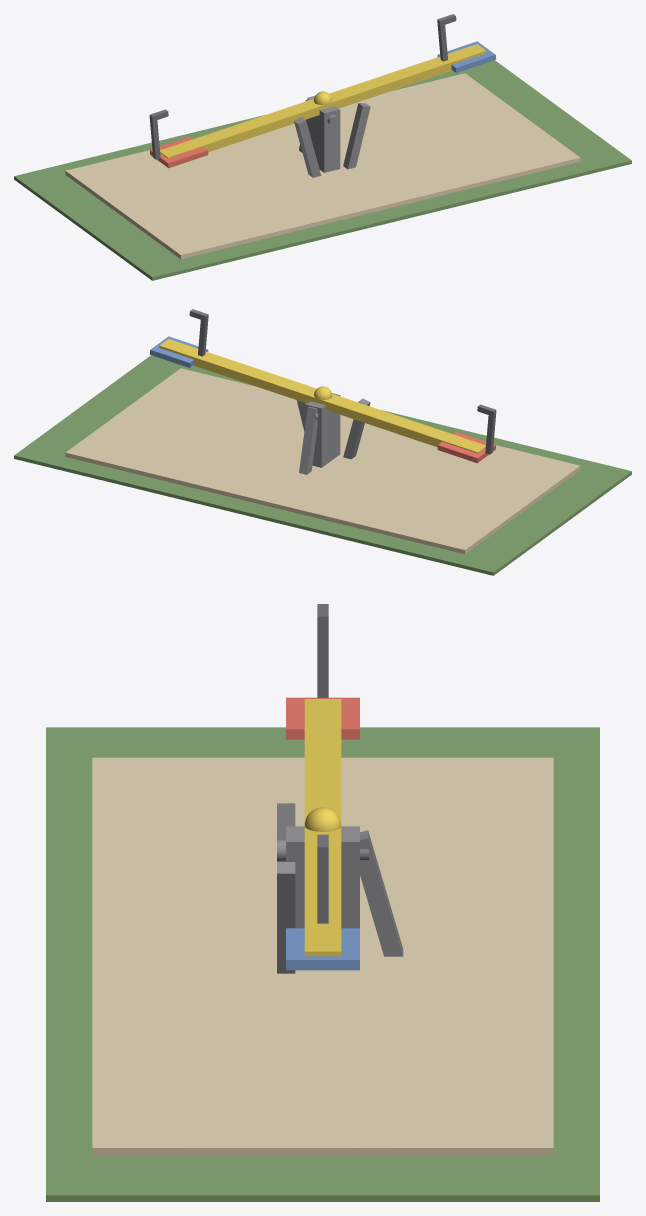
Rendered from seesaw.glb.
The picture shows the model from 3 angles, top to bottom: view 1: azimuth 30°, elevation 25°; view 2: azimuth 150°, elevation 25°; view 3: azimuth 270°, elevation 25°; orthographic projection. The views are drawn at different scales.
Visible parts, largest first — view 1: sand_pit, ground, beam, pivot_post, leg_r, leg_l, seat_l, seat_r; view 2: sand_pit, ground, beam, pivot_post, leg_b, seat_l, seat_r, leg_l; view 3: sand_pit, ground, beam, pivot_post, leg_b, seat_r, leg_r, seat_l, handle_l.
Boxes of the visible parts, x1,y1,x2,y2 form: sand_pit: (65,73,580,259); ground: (14,60,631,280); beam: (160,44,486,158); pivot_post: (305,98,340,172); leg_r: (343,103,370,169); leg_l: (294,117,321,177); seat_l: (150,136,208,168); seat_r: (437,41,496,72); sand_pit: (65,368,580,554); ground: (14,355,631,575); beam: (159,339,485,453); pivot_post: (305,393,340,467); leg_b: (299,406,317,474); seat_l: (437,431,495,463); seat_r: (149,336,208,367); leg_l: (343,398,370,459); sand_pit: (92,757,553,1156); ground: (46,727,599,1201); beam: (304,699,341,956); pivot_post: (286,826,359,928); leg_b: (360,830,403,956); seat_r: (286,928,359,970); leg_r: (277,862,295,973); seat_l: (286,697,359,739); handle_l: (317,627,328,697).
Size of the model in its own units: 6 by 1.49 by 3.
